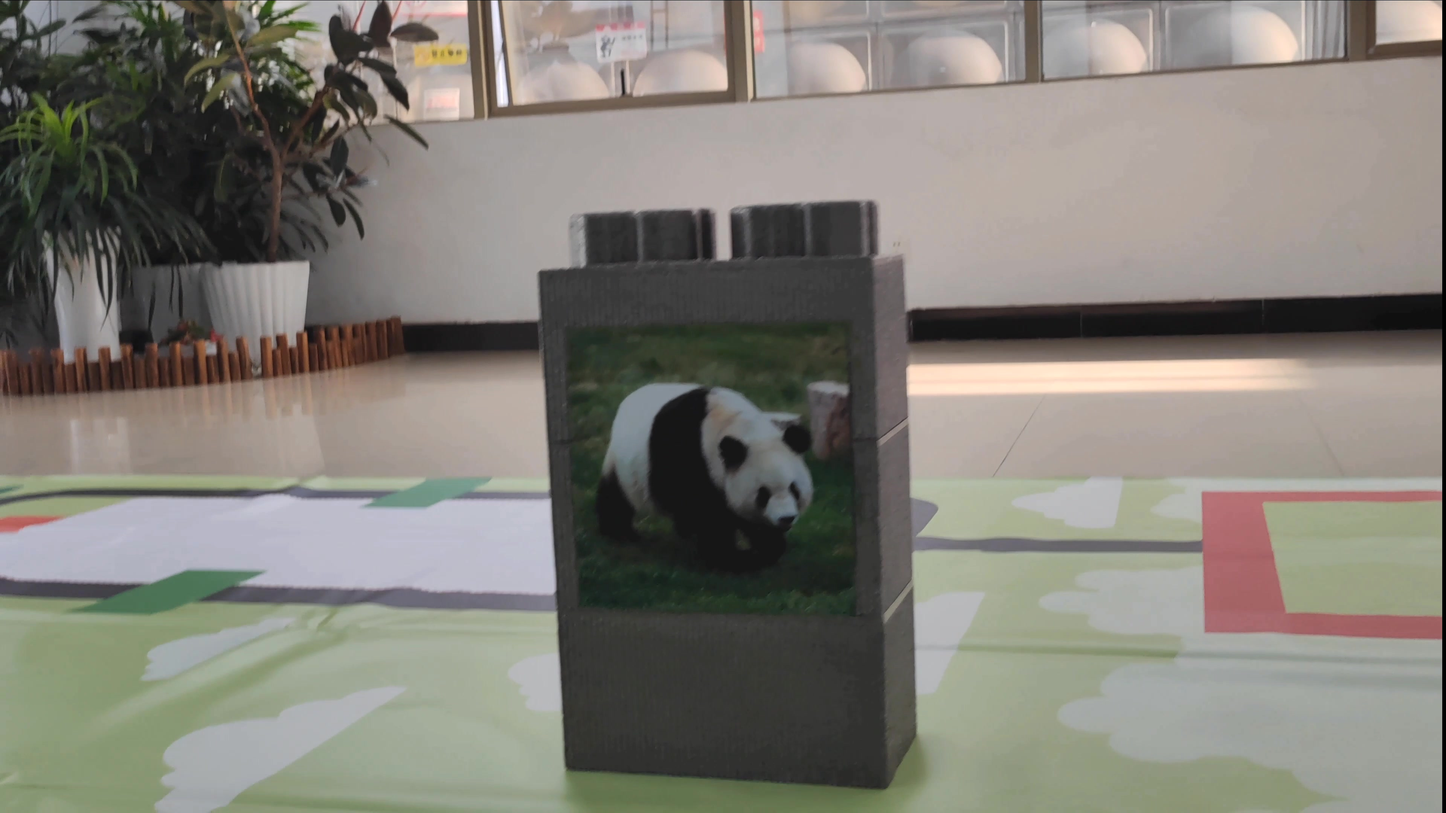panda: (591, 336, 819, 580)
